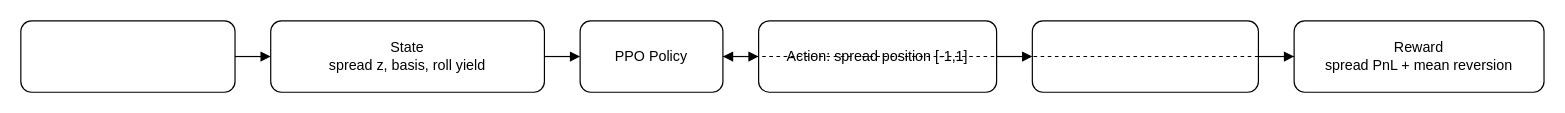
The diagram is 1565 pixels wide and 113 high, and some of its shapes have lost their labels. Here are the shapes that lost their labels. From the top down, the centre of each, then its label:
At pixel 127 56: "Futures Market Data".
At pixel 1144 56: "Futures Spread Env margin, carry".
